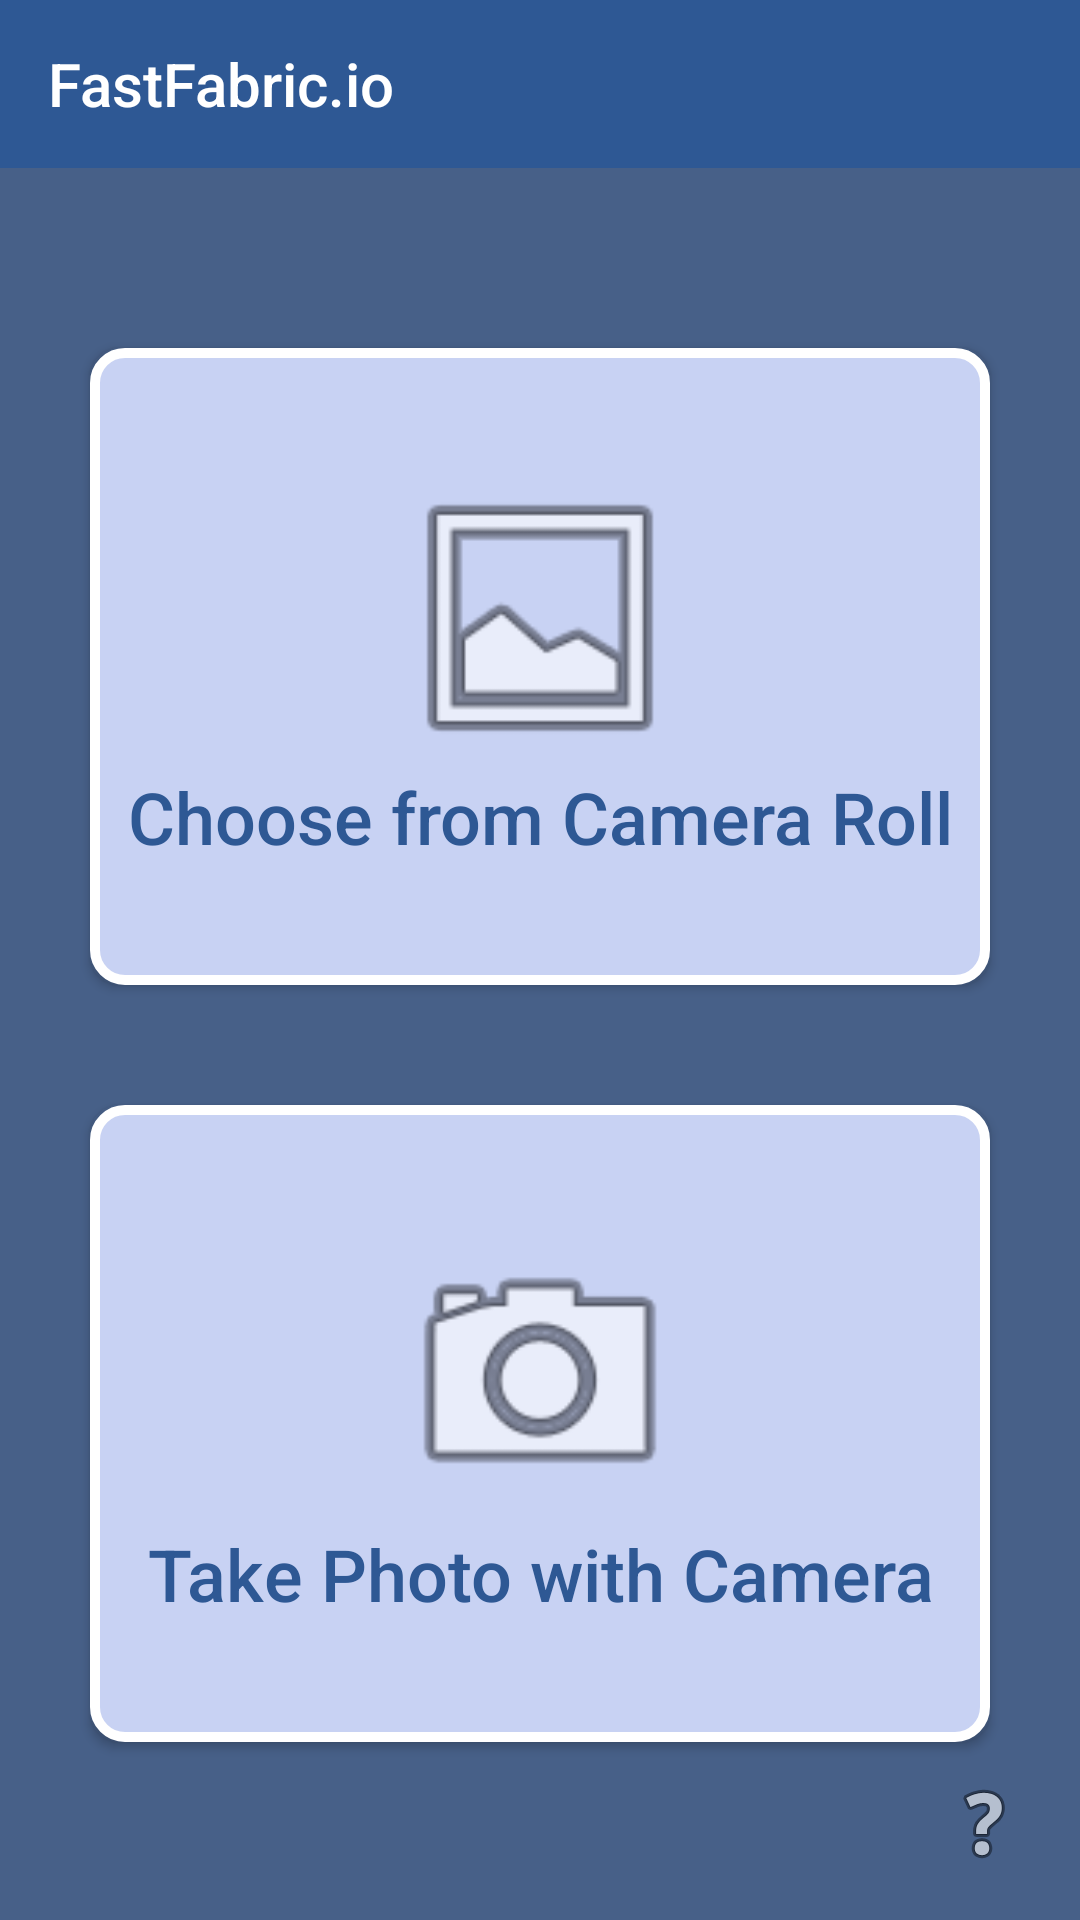

Icons on this 1080x1920 Android screen, each with its box as detection(x1, y1, x2, y2):
help: detection(963, 1790, 1005, 1858)
